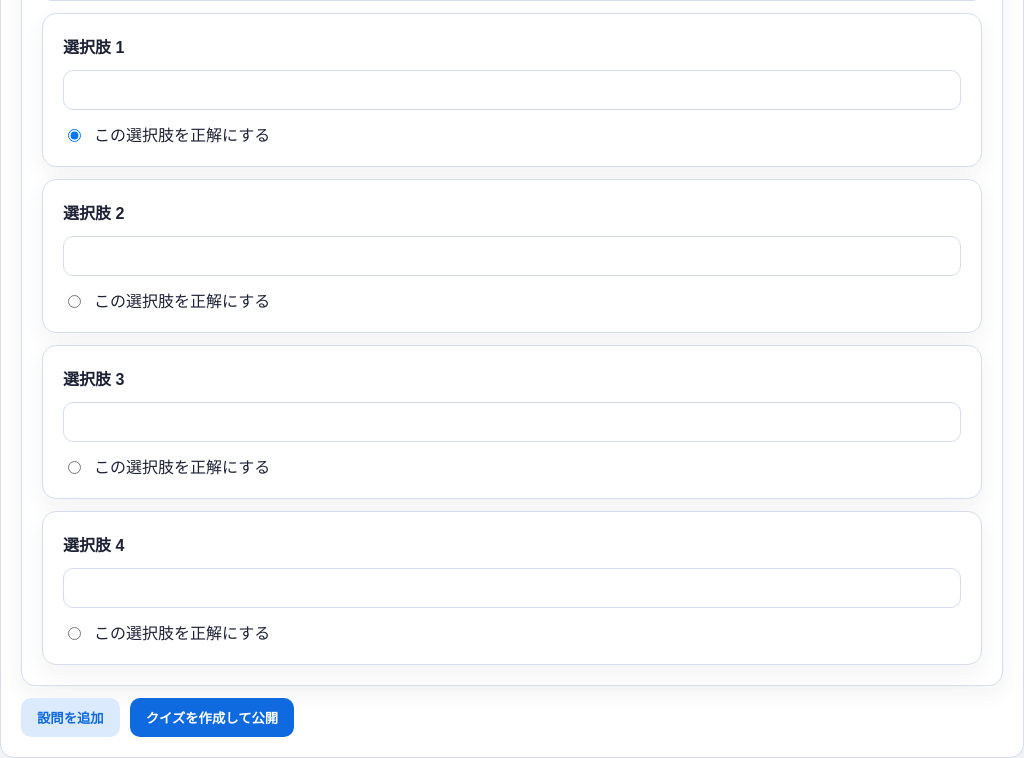
Test: CreateQuizForm › 正解選択肢を切り替えると他の選択肢は未選択になる
(page scrolled)
Click the 3rd radio button labelled "この選択肢を正解にする" at [74, 468], box 68,461 -> 81,474
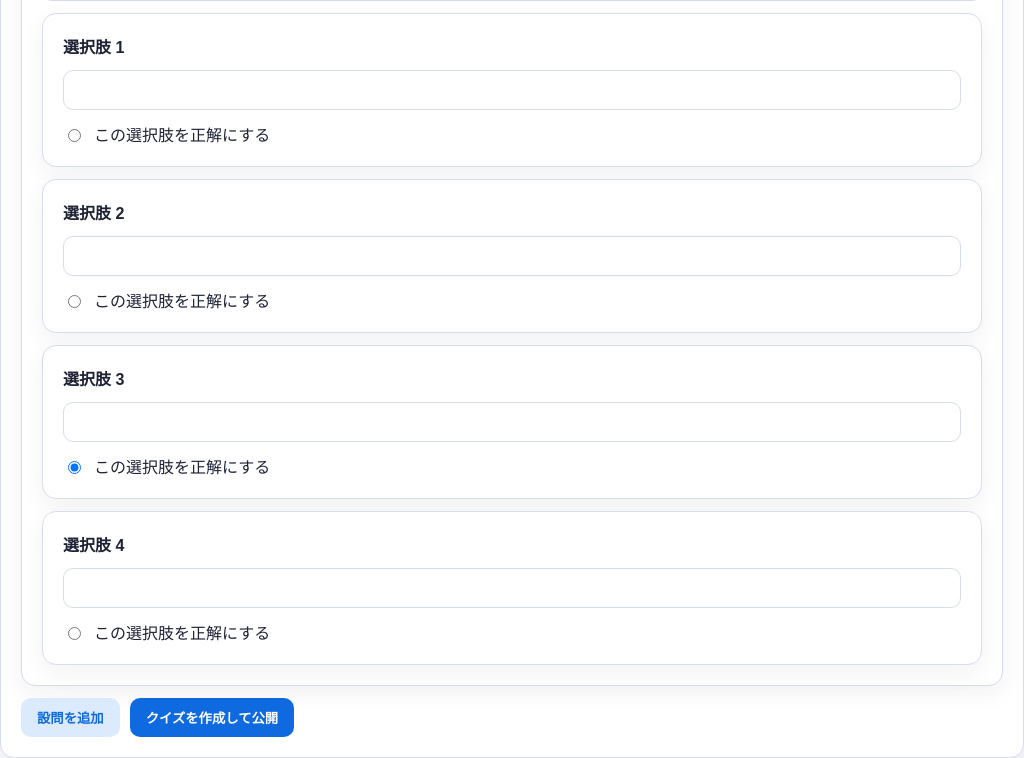
Expected: the number of radio buttons labelled "この選択肢を正解にする" is 4, 68,129 -> 81,142; 68,295 -> 81,308; 68,461 -> 81,474; 68,627 -> 81,640
Expected: the 3rd radio button labelled "この選択肢を正解にする" is checked, 68,461 -> 81,474
Expected: the 1st radio button labelled "この選択肢を正解にする" is not checked, 68,129 -> 81,142
